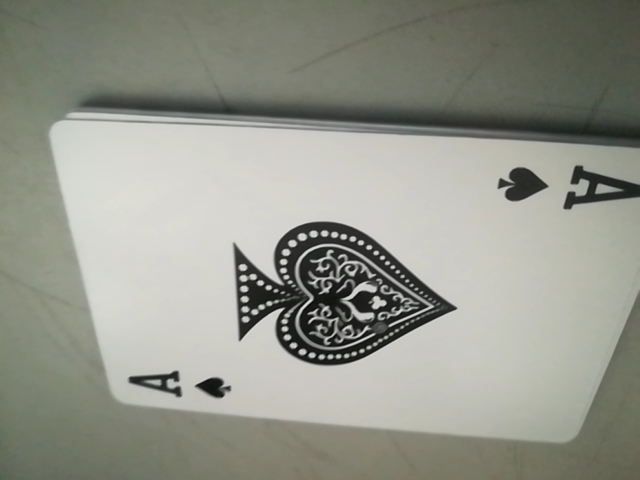ht a: (494, 151, 637, 226), (123, 367, 236, 404)
